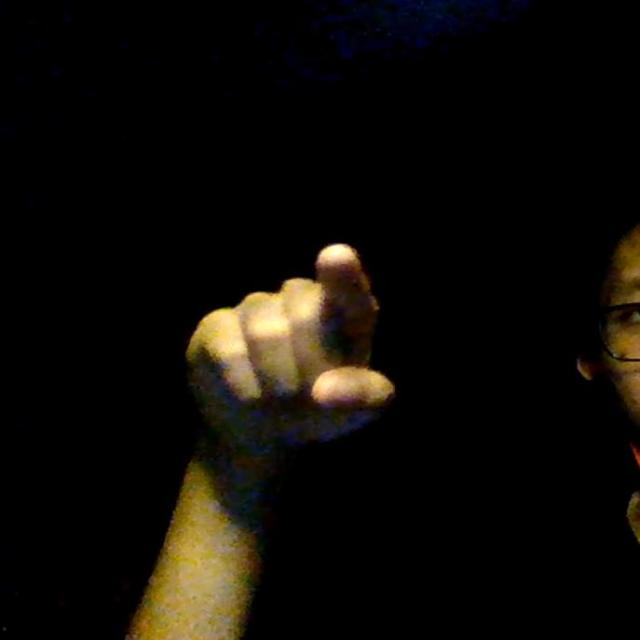Z: (186, 244, 394, 445)
